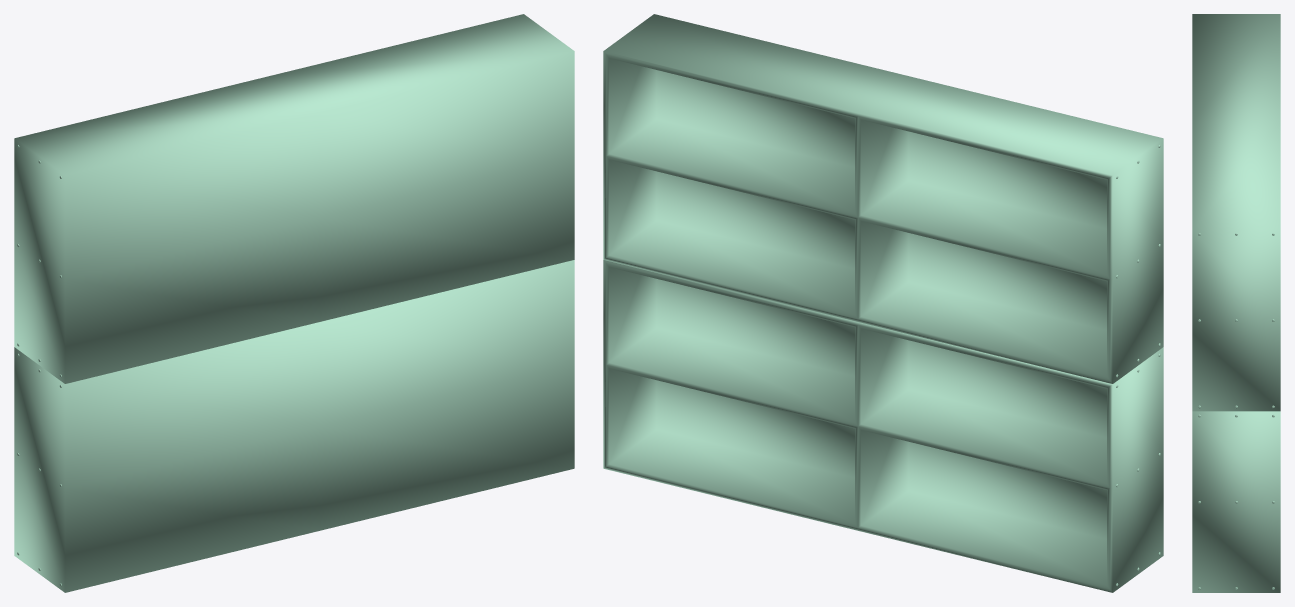
The model's file is CorridorShelf.fbx.
3 views of the same model, side by side, from view 1: azimuth 30°, elevation 25°; view 2: azimuth 150°, elevation 25°; view 3: azimuth 270°, elevation 25° (orthographic). The views are drawn at different scales.
Visible parts, largest first — view 1: Shelf_2_2, Shelf_1; view 2: Shelf_2_2, Shelf_1; view 3: Shelf_2_2, Shelf_1.
Part boxes in pixels (box(x1,y1,x2,y2)): Shelf_2_2: box(14, 14, 574, 383); Shelf_1: box(14, 260, 574, 592); Shelf_2_2: box(603, 14, 1163, 383); Shelf_1: box(603, 260, 1163, 592); Shelf_2_2: box(1192, 14, 1280, 411); Shelf_1: box(1192, 411, 1280, 592).
Bounding box in the file's own units: 1.8 × 1.41 × 0.31.
